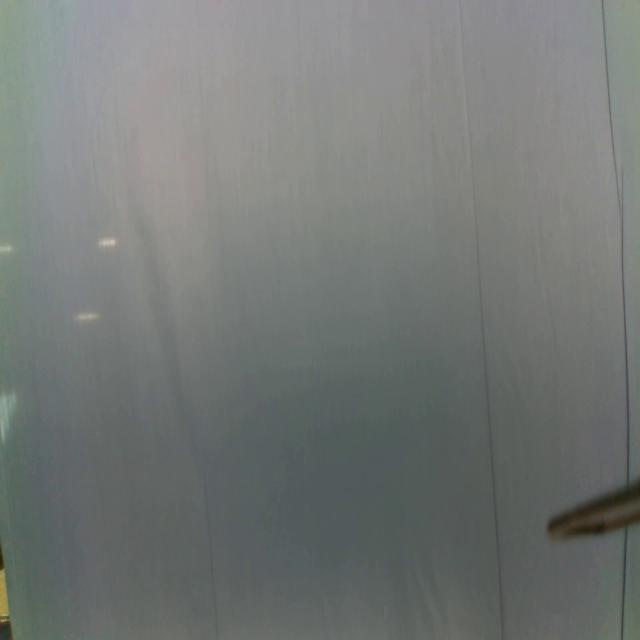crease: (457, 0, 504, 640), (602, 0, 630, 482), (619, 528, 630, 640)
